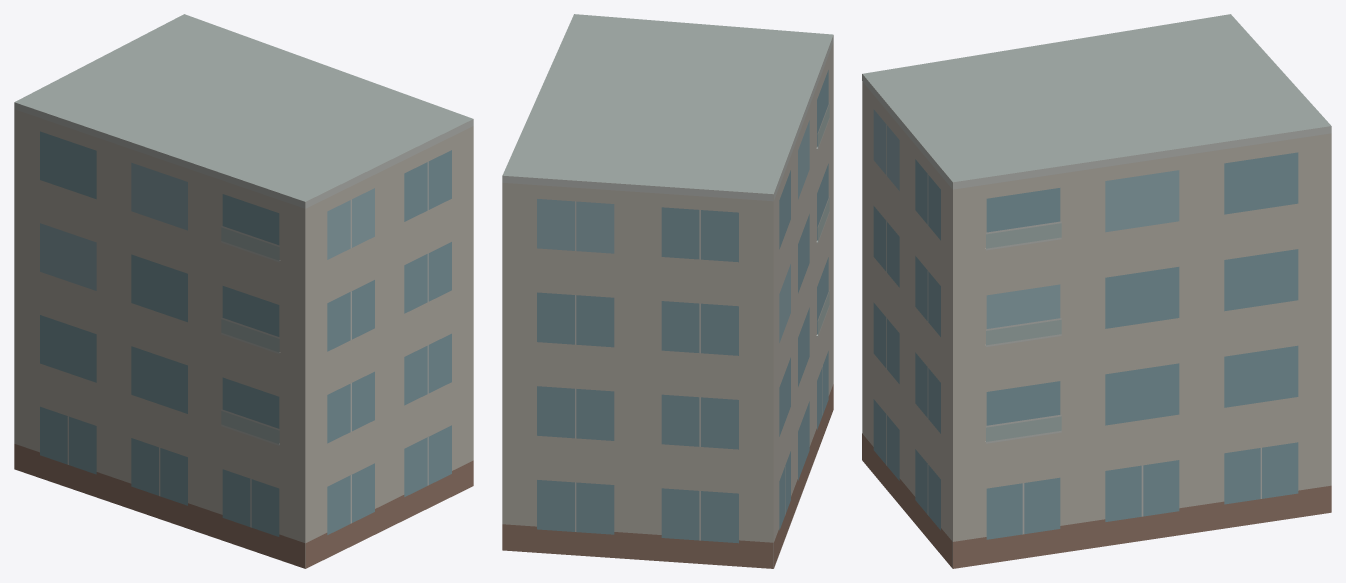
File: survey-upis-32750467.glb
The picture shows the model from 3 angles, left to right: view 1: azimuth 30°, elevation 25°; view 2: azimuth 150°, elevation 25°; view 3: azimuth 270°, elevation 25°; orthographic projection. The views are drawn at different scales.
Parts seen in each view (by area): view 1: survey-upis-32750467.tmp; view 2: survey-upis-32750467.tmp; view 3: survey-upis-32750467.tmp.
Part boxes in pixels (left/top/right/bottom): survey-upis-32750467.tmp: left=14, top=14, right=473, bottom=568; survey-upis-32750467.tmp: left=502, top=14, right=833, bottom=568; survey-upis-32750467.tmp: left=862, top=14, right=1331, bottom=568.
Size of the model in its own units: 12.06 by 12.9 by 14.21.
